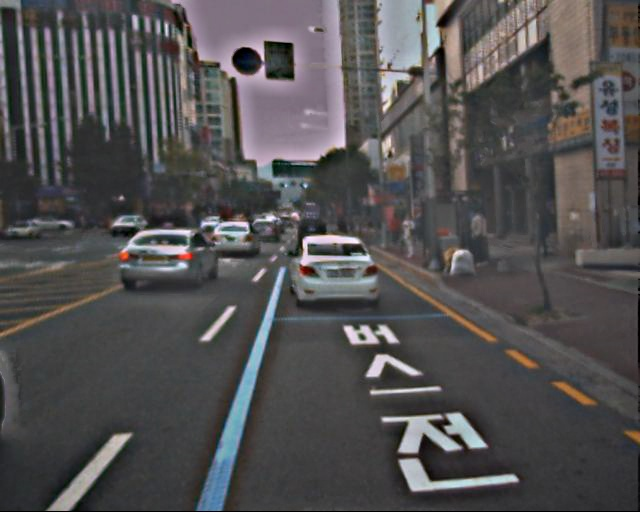person: (468, 207, 494, 270), (530, 207, 552, 261), (399, 212, 420, 262)
